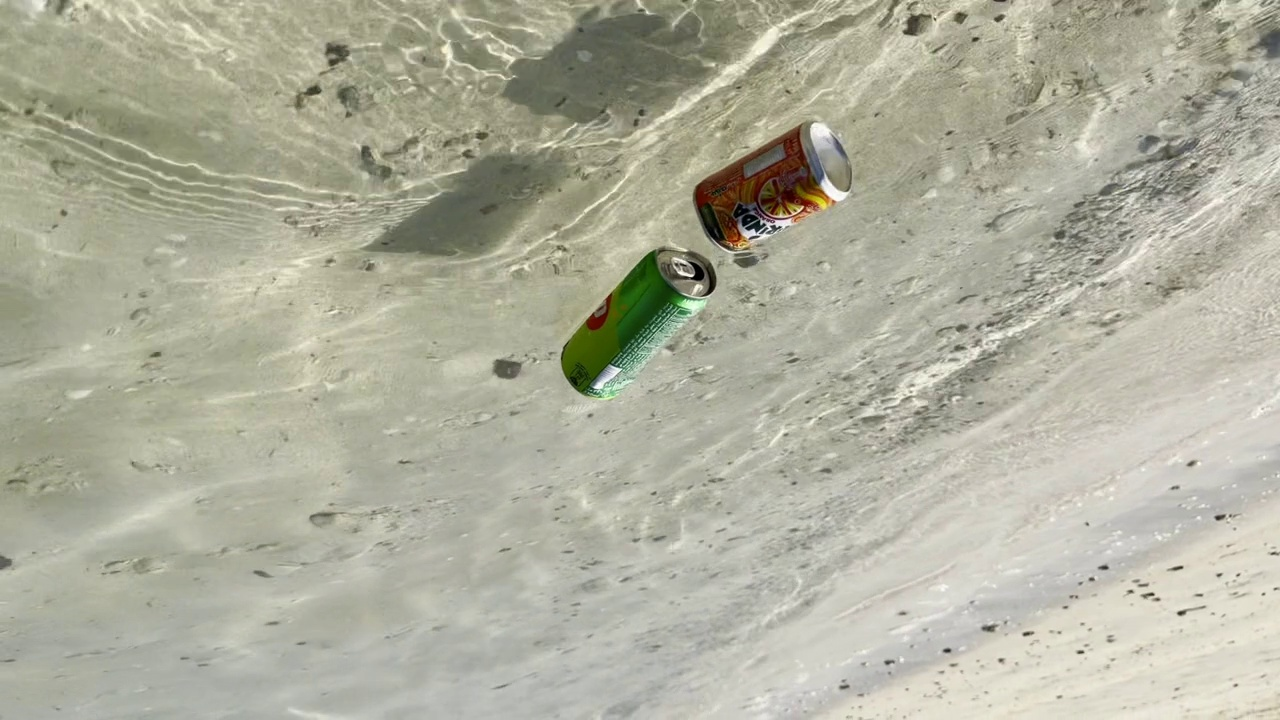debris: (554, 240, 723, 409), (686, 109, 869, 261)
